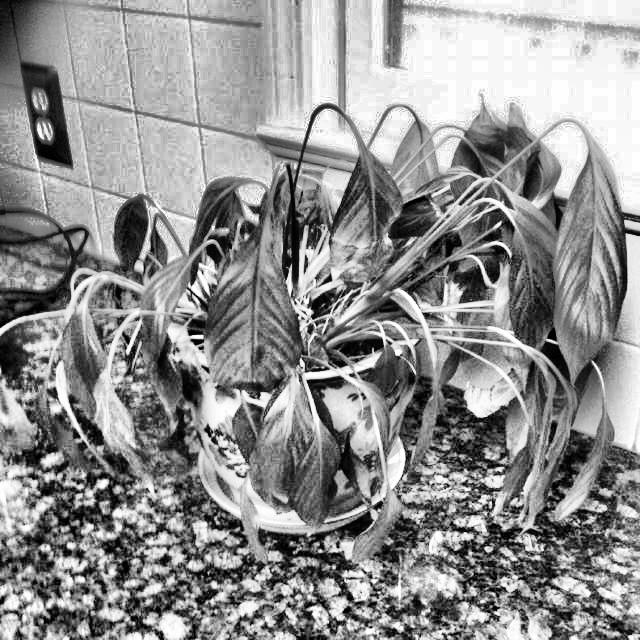plants: (0, 80, 616, 550), (280, 106, 400, 287), (540, 323, 614, 525), (448, 96, 548, 216)
